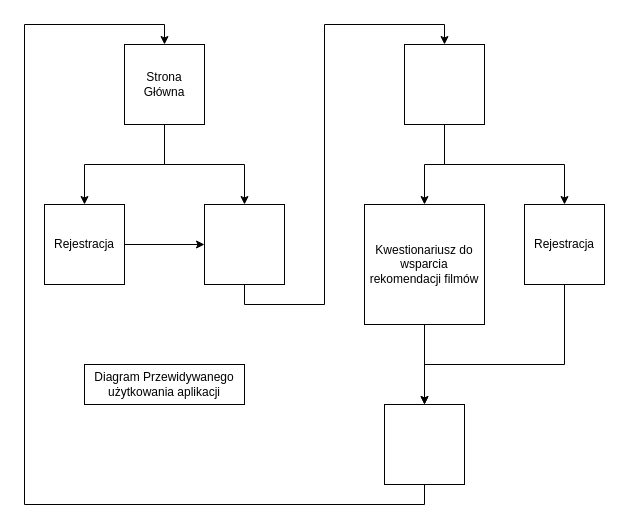
This 622x530 diagram has some shape labels left out. Each missing label, with the centre of its shape:
"Logowanie" goes at point 244,244.
"Profil Użytkownika" goes at point 444,84.
"Wylogowanie" goes at point 424,444.
